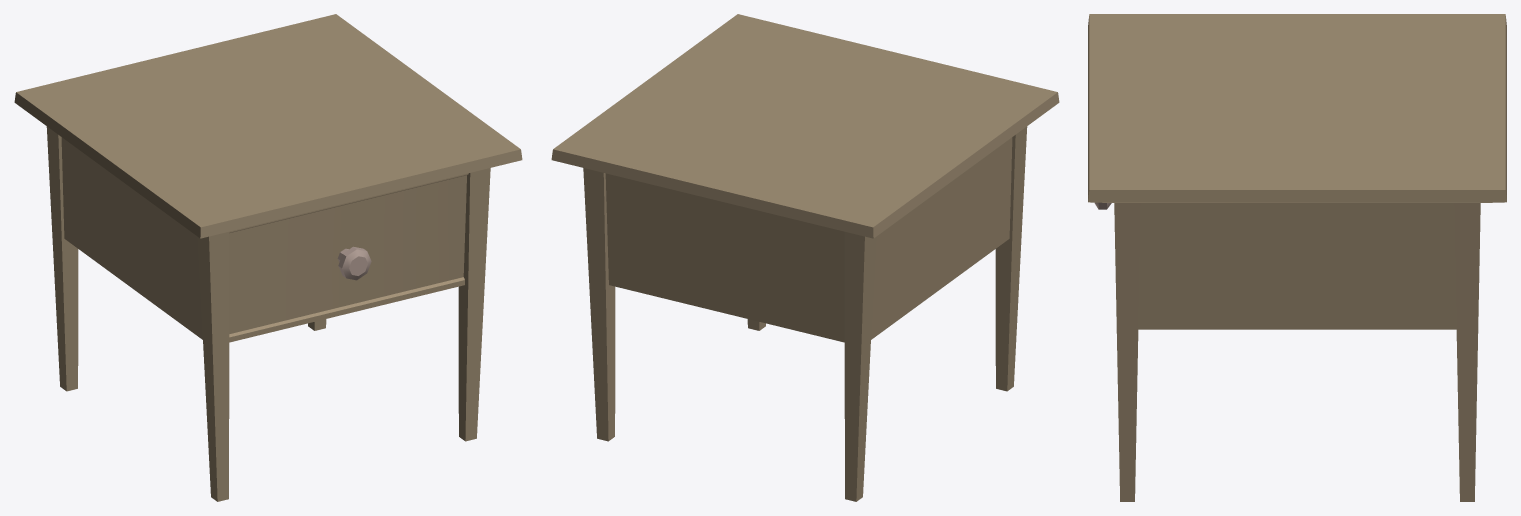
File: nightstand.glb
3 renders of one model, left to right at view 1: azimuth 30°, elevation 25°; view 2: azimuth 150°, elevation 25°; view 3: azimuth 270°, elevation 25°, orthographic. The views are drawn at different scales.
Visible parts, largest first — view 1: NightStand_1; view 2: NightStand_1; view 3: NightStand_1.
Part boxes in pixels (x1=…): NightStand_1: x1=14, y1=14, x2=522, y2=501; NightStand_1: x1=551, y1=14, x2=1059, y2=501; NightStand_1: x1=1088, y1=14, x2=1506, y2=501.
Bounding box in the file's own units: 0.9522 × 0.8249 × 0.9522.
